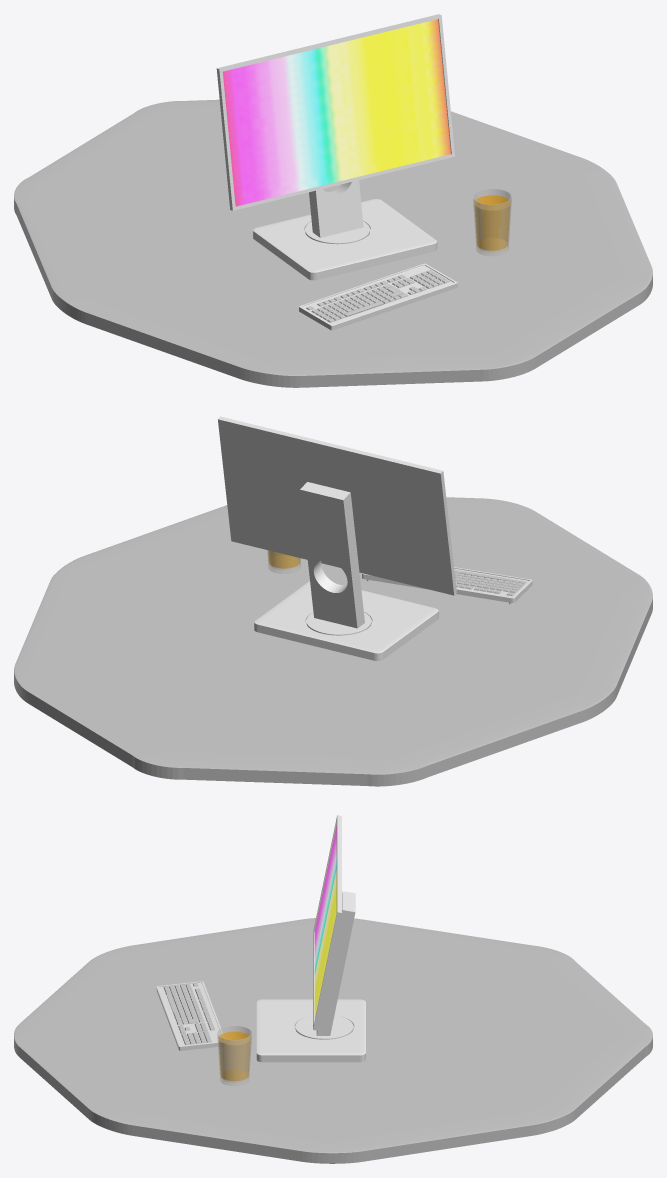
File: igor.gltf
3 views of the same model, one above another, from view 1: azimuth 30°, elevation 25°; view 2: azimuth 150°, elevation 25°; view 3: azimuth 270°, elevation 25° (orthographic). The views are drawn at different scales.
Parts seen in each view (by area): view 1: Cylinder, Cube, Cube.107, Cube.001, Circle, Circle.002; view 2: Cylinder, Cube, Cube.001, Cube.107, Circle; view 3: Cylinder, Cube, Cube.107, Cube.001, Circle, Circle.002.
Boxes of the visible parts, x1=… form: Cylinder: x1=14, y1=99, x2=652, y2=387; Cube: x1=216, y1=14, x2=454, y2=280; Cube.107: x1=306, y1=270, x2=449, y2=322; Cube.001: x1=299, y1=263, x2=457, y2=330; Circle: x1=473, y1=188, x2=511, y2=255; Circle.002: x1=474, y1=195, x2=509, y2=250; Cylinder: x1=14, y1=497, x2=652, y2=786; Cube: x1=218, y1=416, x2=456, y2=660; Cube.001: x1=362, y1=567, x2=532, y2=604; Cube.107: x1=454, y1=570, x2=526, y2=596; Circle: x1=267, y1=550, x2=300, y2=573; Cylinder: x1=14, y1=918, x2=652, y2=1163; Cube: x1=256, y1=815, x2=365, y2=1062; Cube.107: x1=163, y1=983, x2=214, y2=1045; Cube.001: x1=156, y1=981, x2=225, y2=1050; Circle: x1=217, y1=1025, x2=251, y2=1085; Circle.002: x1=219, y1=1031, x2=250, y2=1080.
Size of the model in its own units: 8.44 by 3.04 by 9.67.
